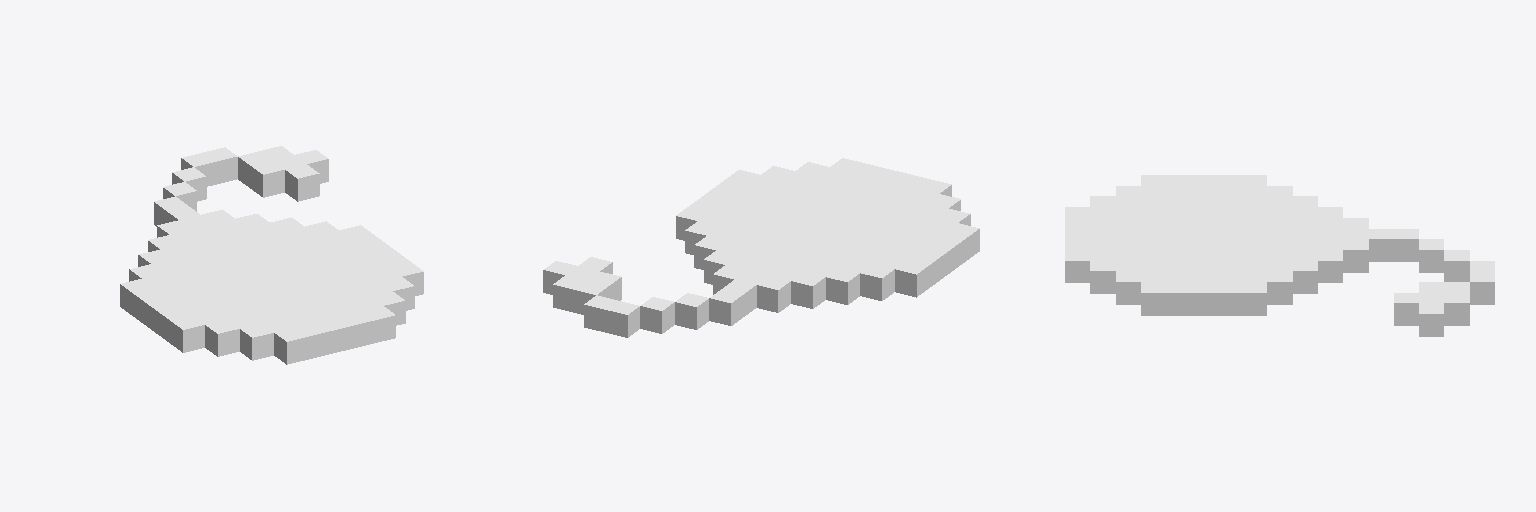
File: bomb.obj
The picture shows the model from 3 angles: view 1: azimuth 30°, elevation 25°; view 2: azimuth 150°, elevation 25°; view 3: azimuth 270°, elevation 25°; orthographic projection.
Size of the model in its own units: 13 by 1 by 17.